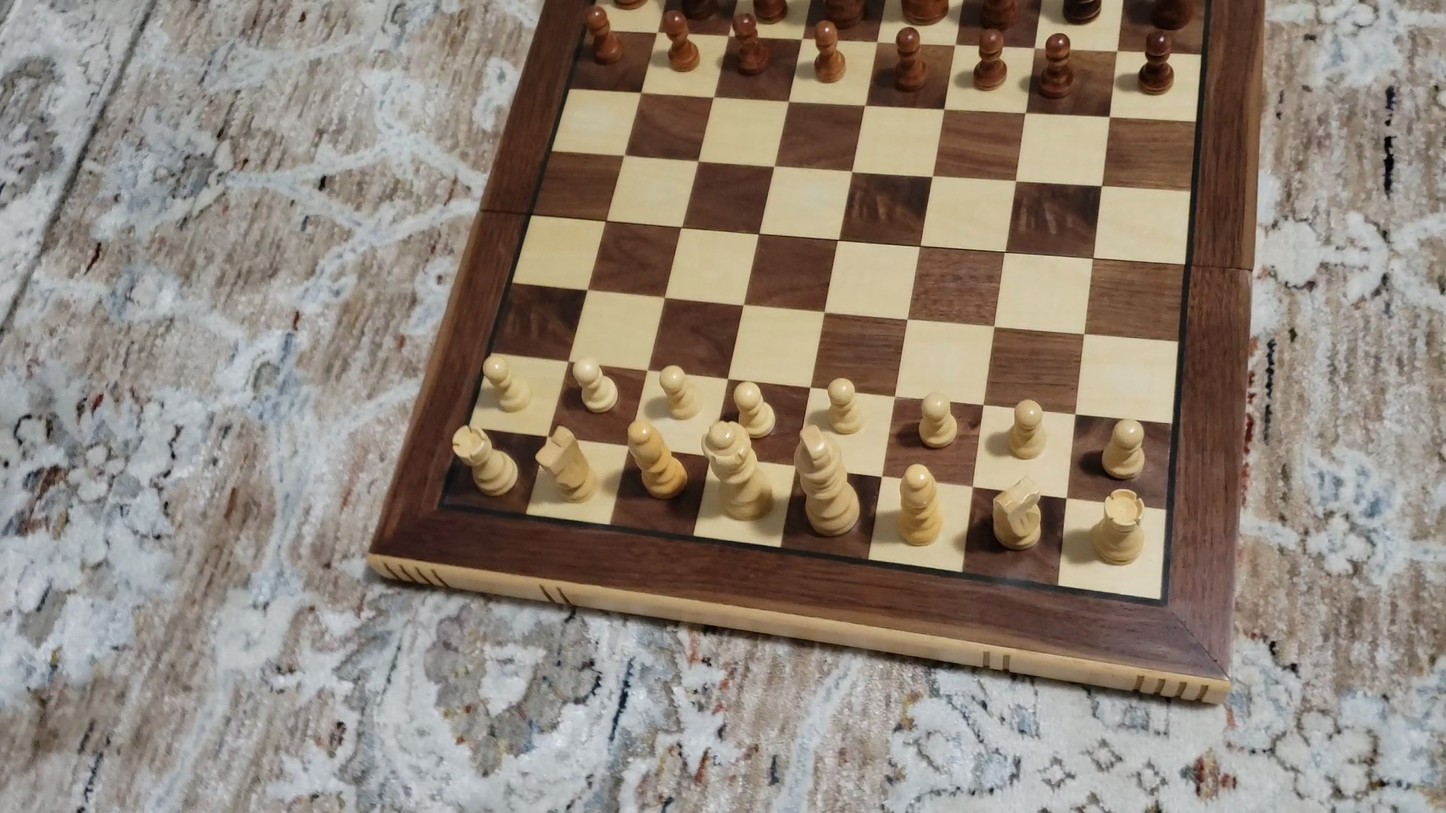black-pawn: (728, 10, 769, 77), (1036, 30, 1074, 100), (1138, 28, 1175, 96), (661, 7, 699, 73), (892, 25, 928, 93), (583, 3, 621, 67), (973, 27, 1007, 92), (810, 19, 844, 84)
white-bishop: (624, 421, 690, 502), (895, 461, 946, 549)
white-king: (791, 423, 863, 540)
white-knight: (534, 423, 597, 502), (987, 474, 1046, 556)
white-pawn: (1097, 415, 1149, 484), (478, 354, 531, 416), (568, 353, 620, 416), (1005, 396, 1049, 463), (730, 378, 776, 442), (914, 390, 959, 452), (821, 374, 865, 436), (657, 360, 694, 419)
white-queen: (702, 419, 776, 526)
white-rook: (449, 423, 520, 499), (1088, 486, 1149, 570)
